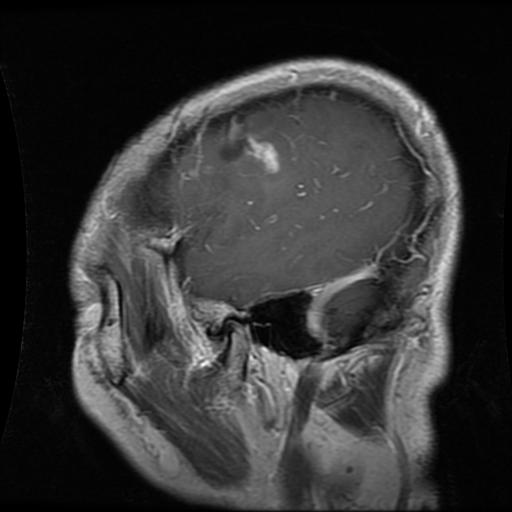Gliomia_tumour: (224, 134, 280, 173)
